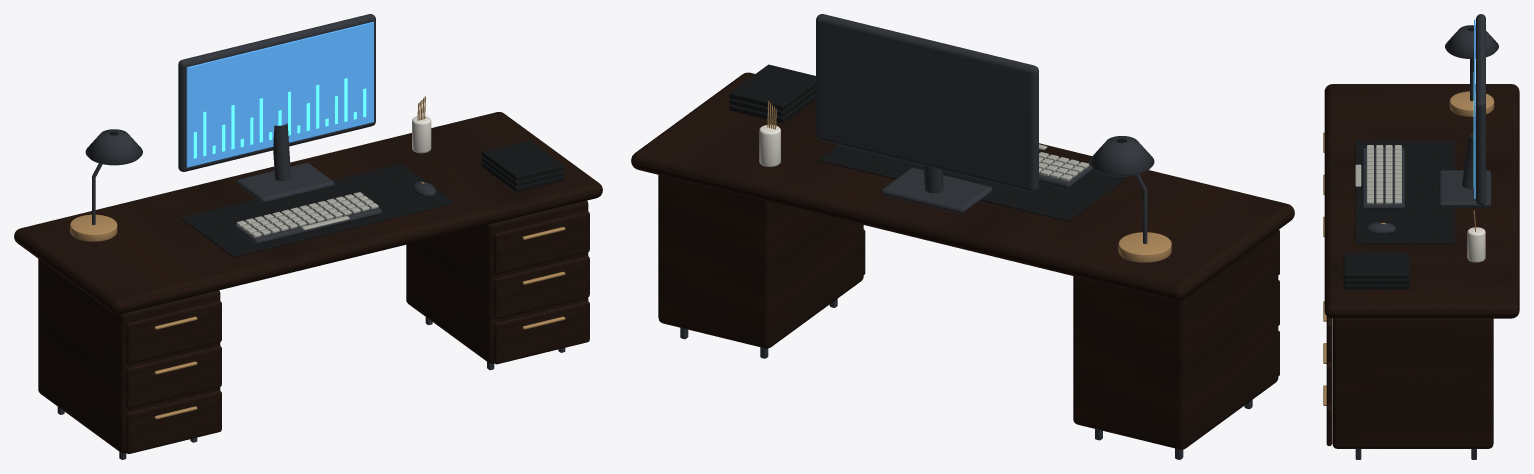
The model's file is executive-desk.glb.
The picture shows the model from 3 angles, left to right: view 1: azimuth 30°, elevation 25°; view 2: azimuth 150°, elevation 25°; view 3: azimuth 270°, elevation 25°; orthographic projection. The views are drawn at different scales.
Parts seen in each view (by area): view 1: Walnut bullnose desktop, Display glass, Floating drawer cabinet, Floating drawer cabinet.001, Leather desk mat, Recessed drawer front.005, Recessed drawer front.003, Recessed drawer front.004, Recessed drawer front.001, Recessed drawer front.002, Recessed drawer front, Monitor machined enclosure (+7 smaller); view 2: Walnut bullnose desktop, Floating drawer cabinet, Monitor machined enclosure, Floating drawer cabinet.001, Leather desk mat, Monitor foot, Stacked bound notebook.002, Spun desk lamp shade, Lamp weighted base, Ceramic pen cup; view 3: Walnut bullnose desktop, Floating drawer cabinet.001, Leather desk mat, Monitor machined enclosure, Stacked bound notebook.002, Monitor foot, Keyboard chassis, Spun desk lamp shade, Lamp weighted base, Ceramic pen cup, Monitor pedestal, Stacked bound notebook.001 (+6 smaller).
Part boxes in pixels (x1,y1,x2,y2): Walnut bullnose desktop: (14, 112, 602, 314); Display glass: (186, 22, 373, 167); Floating drawer cabinet: (38, 259, 220, 453); Floating drawer cabinet.001: (406, 200, 588, 363); Leather desk mat: (180, 163, 454, 257); Recessed drawer front.005: (493, 211, 589, 274); Recessed drawer front.003: (493, 300, 589, 364); Recessed drawer front.004: (493, 256, 589, 319); Recessed drawer front.001: (126, 345, 221, 409); Recessed drawer front.002: (126, 301, 221, 364); Recessed drawer front: (126, 390, 221, 453); Monitor machined enclosure: (178, 14, 375, 171); Walnut bullnose desktop: (631, 72, 1294, 301); Floating drawer cabinet: (1073, 230, 1278, 449); Monitor machined enclosure: (816, 14, 1038, 191); Floating drawer cabinet.001: (658, 175, 863, 348); Leather desk mat: (819, 145, 1127, 221); Monitor foot: (881, 168, 992, 213); Stacked bound notebook.002: (729, 64, 815, 110); Spun desk lamp shade: (1089, 136, 1154, 176); Lamp weighted base: (1118, 232, 1171, 262); Ceramic pen cup: (759, 124, 780, 166); Walnut bullnose desktop: (1324, 84, 1519, 318); Floating drawer cabinet.001: (1332, 318, 1493, 448); Leather desk mat: (1355, 141, 1454, 243); Monitor machined enclosure: (1476, 14, 1485, 205); Stacked bound notebook.002: (1343, 253, 1409, 278); Monitor foot: (1439, 170, 1491, 207); Keyboard chassis: (1362, 147, 1404, 209); Spun desk lamp shade: (1445, 25, 1498, 58); Lamp weighted base: (1449, 91, 1494, 116); Ceramic pen cup: (1467, 227, 1485, 262); Monitor pedestal: (1462, 133, 1475, 189); Stacked bound notebook.001: (1343, 278, 1409, 284).
Bounding box in the file's own units: 2.35 × 1.47 × 0.865.
Materials: 27 (2 with a texture image).
